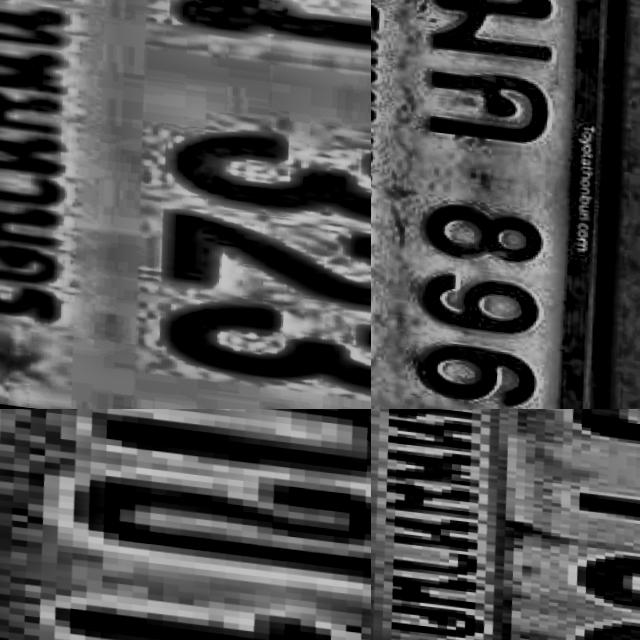license-plate: (0, 0, 371, 409), (371, 0, 640, 409), (0, 409, 371, 640), (371, 409, 640, 640)
